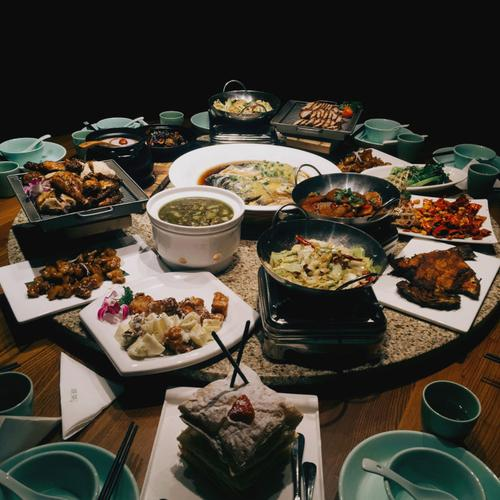food: (83, 269, 247, 378), (256, 213, 391, 315), (180, 139, 331, 217), (385, 236, 483, 326), (146, 176, 242, 266), (16, 155, 137, 226), (290, 164, 400, 228), (394, 186, 494, 240), (208, 85, 280, 132)
